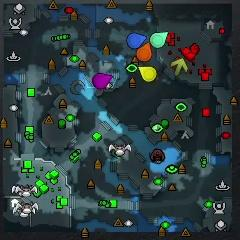p1: (127, 33, 147, 48)
p2: (150, 31, 168, 48)
p3: (93, 72, 112, 89)
p4: (138, 66, 156, 81)
p5: (137, 43, 152, 61)
x2: (172, 58, 188, 75)
